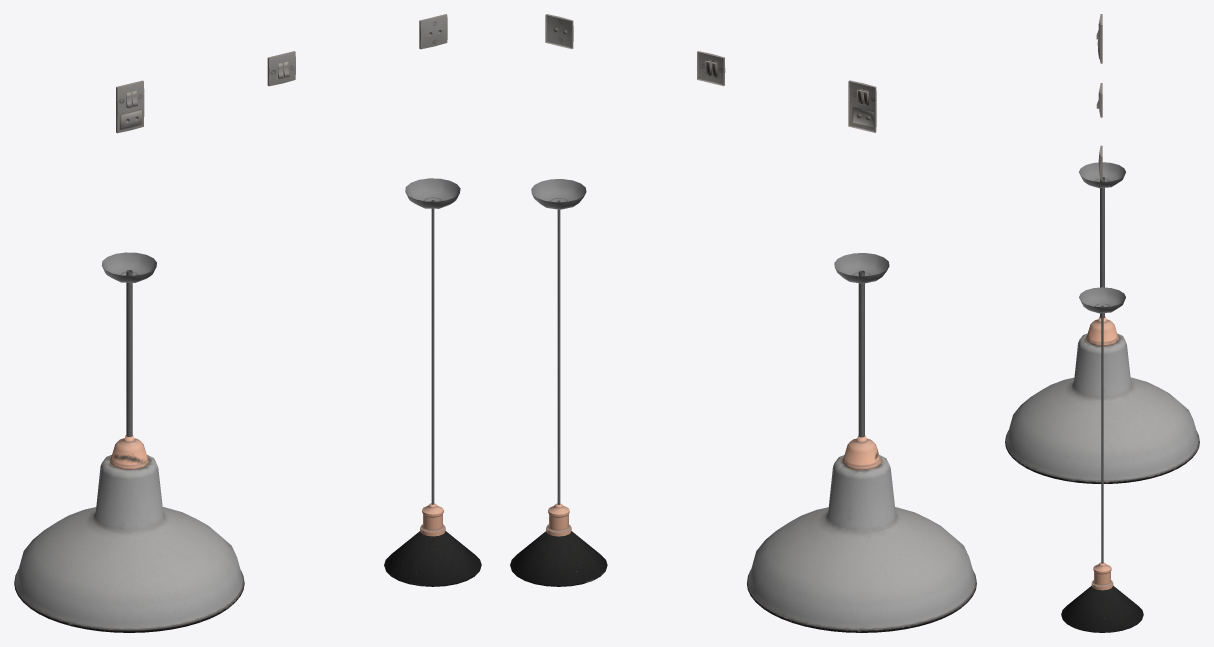
The model's file is kitchen_lamps.glb.
The picture shows the model from 3 angles, left to right: view 1: azimuth 30°, elevation 25°; view 2: azimuth 150°, elevation 25°; view 3: azimuth 270°, elevation 25°; orthographic projection. The views are drawn at different scales.
Parts seen in each view (by area): view 1: Lamp_Kitchen_A_1, Lamp_Kitchen_B_0, Powerplug_A_2, Powerplug_B_3, Powerplug_C_4; view 2: Lamp_Kitchen_A_1, Lamp_Kitchen_B_0, Powerplug_A_2, Powerplug_C_4, Powerplug_B_3; view 3: Lamp_Kitchen_A_1, Lamp_Kitchen_B_0.
Boxes of the visible parts, x1,y1,x2,y2 form: Lamp_Kitchen_A_1: (14, 252, 244, 632); Lamp_Kitchen_B_0: (384, 178, 481, 586); Powerplug_A_2: (116, 80, 144, 133); Powerplug_B_3: (267, 51, 295, 86); Powerplug_C_4: (419, 14, 447, 49); Lamp_Kitchen_A_1: (747, 253, 976, 632); Lamp_Kitchen_B_0: (510, 179, 607, 586); Powerplug_A_2: (848, 80, 876, 132); Powerplug_C_4: (545, 14, 573, 49); Powerplug_B_3: (697, 51, 725, 86); Lamp_Kitchen_A_1: (1005, 162, 1199, 483); Lamp_Kitchen_B_0: (1061, 287, 1143, 632).
Bounding box in the file's own units: 1.47 × 1.75 × 0.6578.
1 material, 1 textured.
